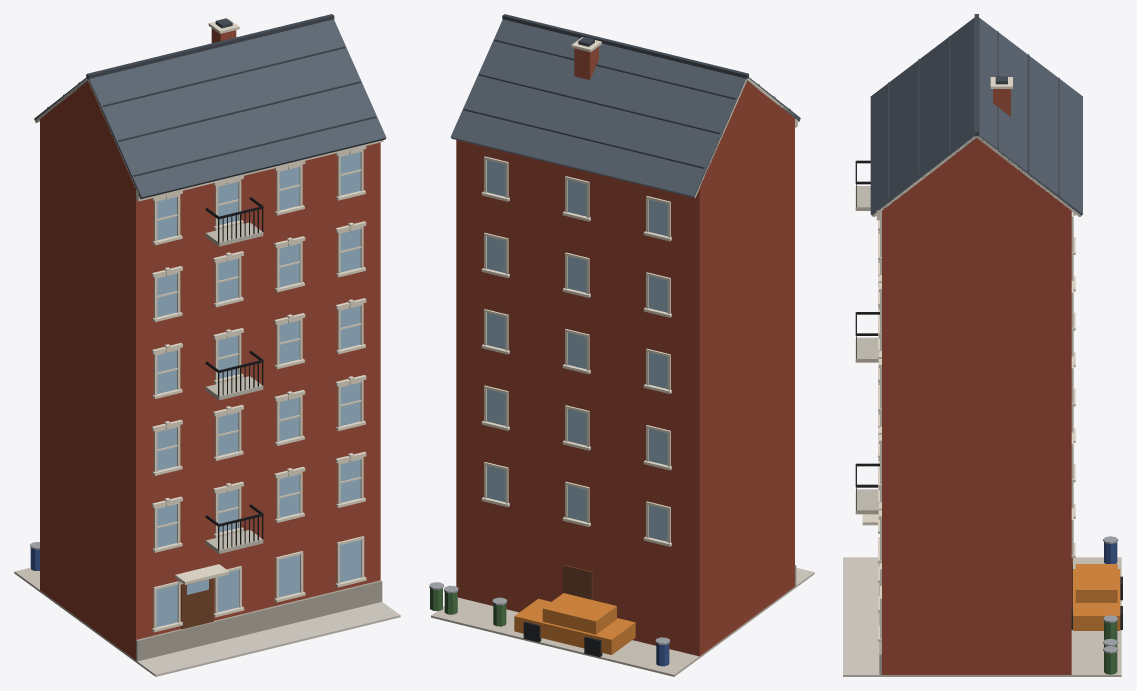
File: Blok_duz_6k_2_Hafif.fbx
3 renders of one model, left to right at view 1: azimuth 30°, elevation 25°; view 2: azimuth 150°, elevation 25°; view 3: azimuth 270°, elevation 25°, orthographic.
Visible parts, largest first — view 1: Blok_duz_6k_2_Hafif; view 2: Blok_duz_6k_2_Hafif; view 3: Blok_duz_6k_2_Hafif.
Part boxes in pixels (left/top/right/bottom): Blok_duz_6k_2_Hafif: left=14, top=14, right=400, bottom=676; Blok_duz_6k_2_Hafif: left=429, top=14, right=814, bottom=676; Blok_duz_6k_2_Hafif: left=843, top=14, right=1122, bottom=676.
Size of the model in its own units: 10.29 by 21.86 by 10.04.
